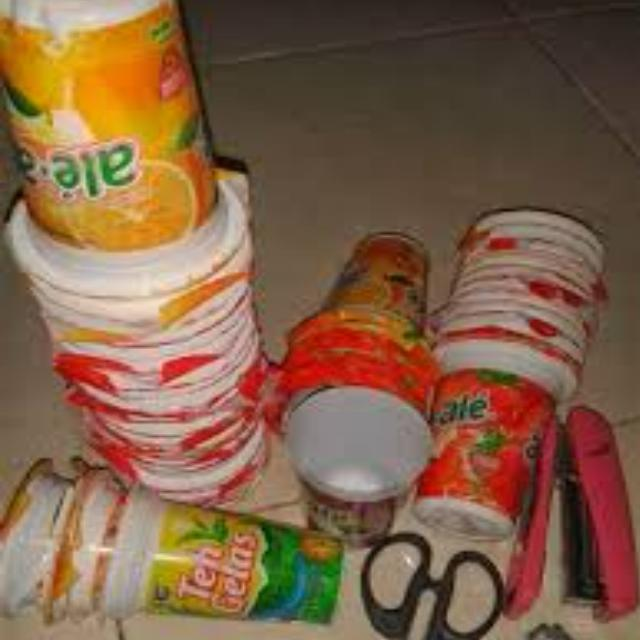GelasPlastik: (0, 0, 271, 501), (420, 198, 610, 548), (0, 457, 340, 630), (281, 209, 437, 541)
